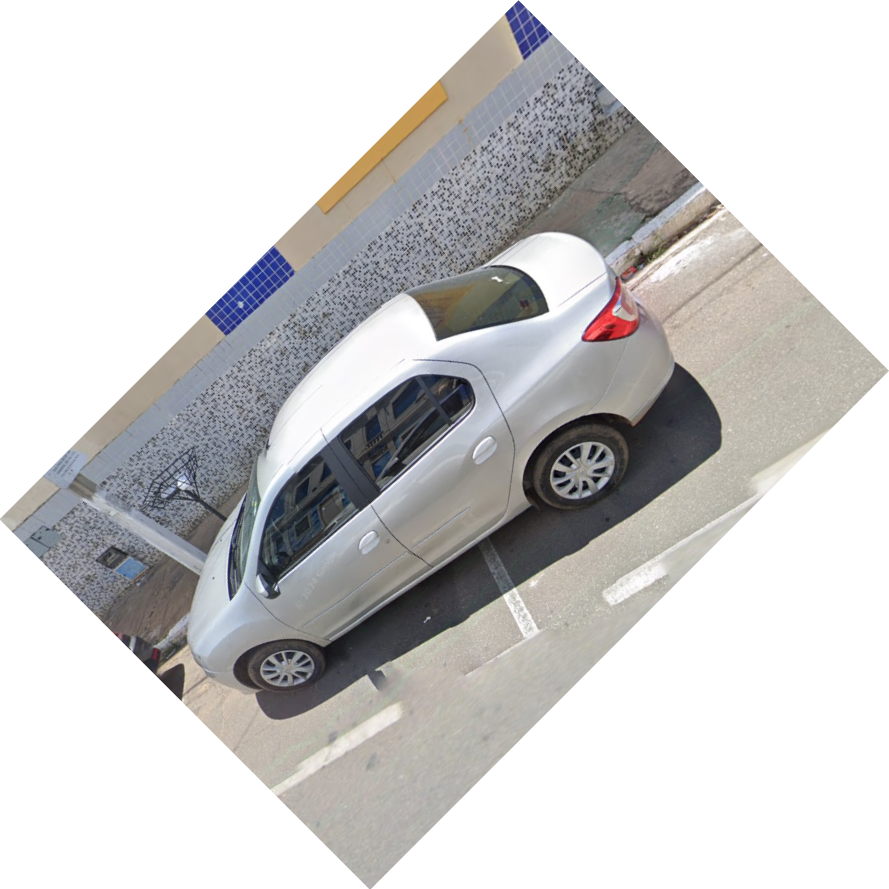car: (158, 223, 682, 716)
